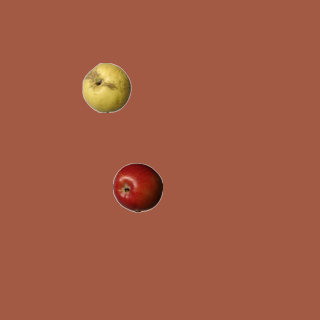Apple Braeburn: (112, 162, 162, 212)
Apple Golden 1: (81, 62, 131, 112)
